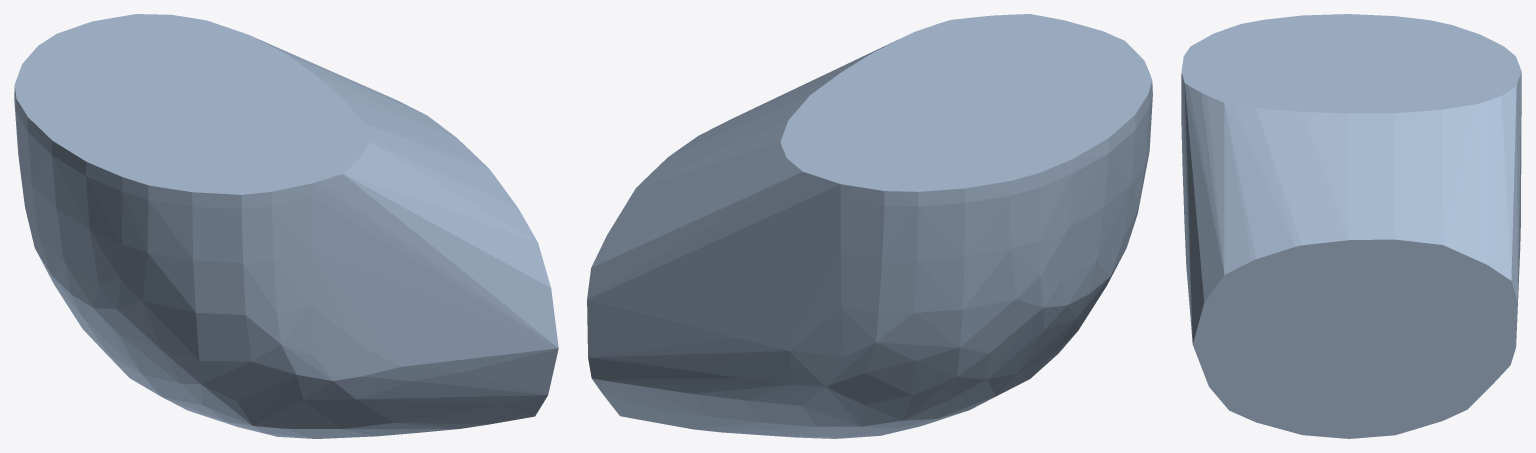
3 renders of one model, left to right at view 1: azimuth 30°, elevation 25°; view 2: azimuth 150°, elevation 25°; view 3: azimuth 270°, elevation 25°, orthographic. The views are drawn at different scales.
Bounding box in the file's own units: 0.0233 × 0.0195 × 0.022.
